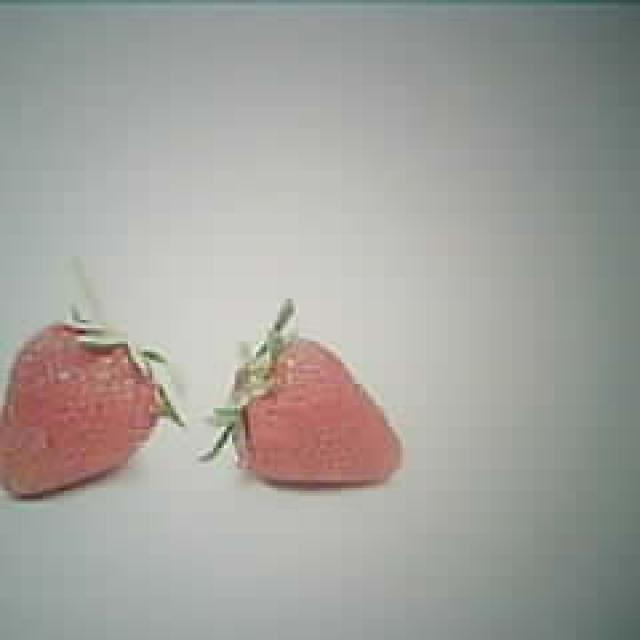ripe: (0, 324, 162, 496), (231, 339, 405, 483)
